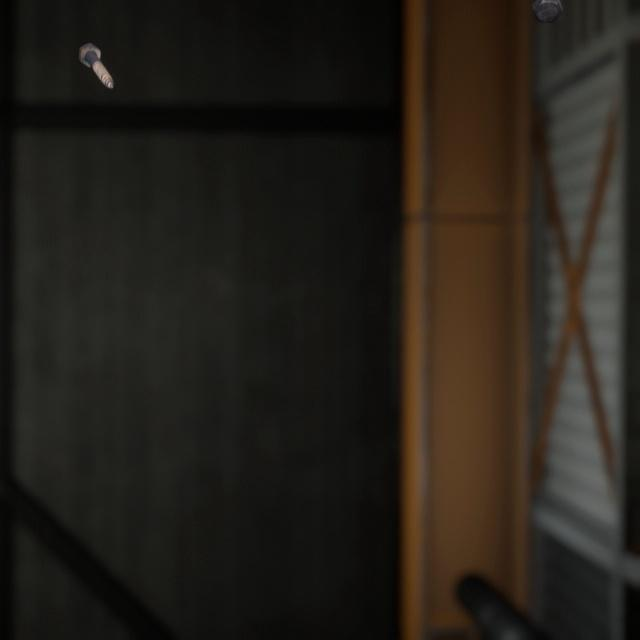bolt: (74, 28, 118, 82)
